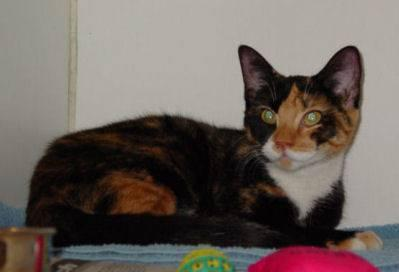cat: (25, 45, 365, 249)
